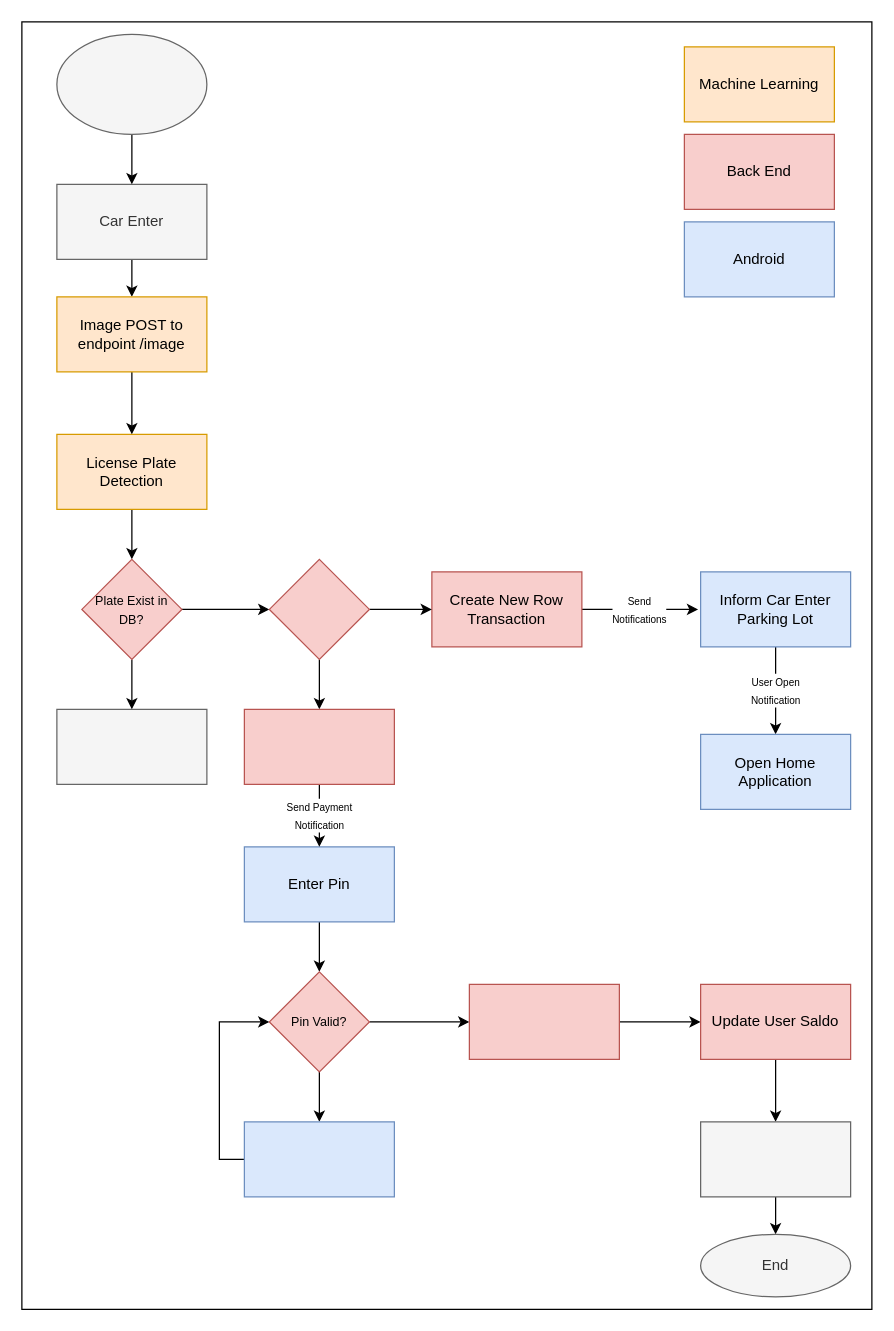
The diagram is 894 pixels wide and 1331 high, and some of its shapes have lost their labels. Here are the shapes that lost their labels. From the top down, the centre of each, then its label:
the point at 131,83: Start
the point at 318,608: New Transaction?
the point at 131,746: Use Another Parking Gate
the point at 318,746: Update Transaction Database
the point at 543,1021: Update Payment Status
the point at 318,1159: Re-enter Pin
the point at 775,1159: Car Out
